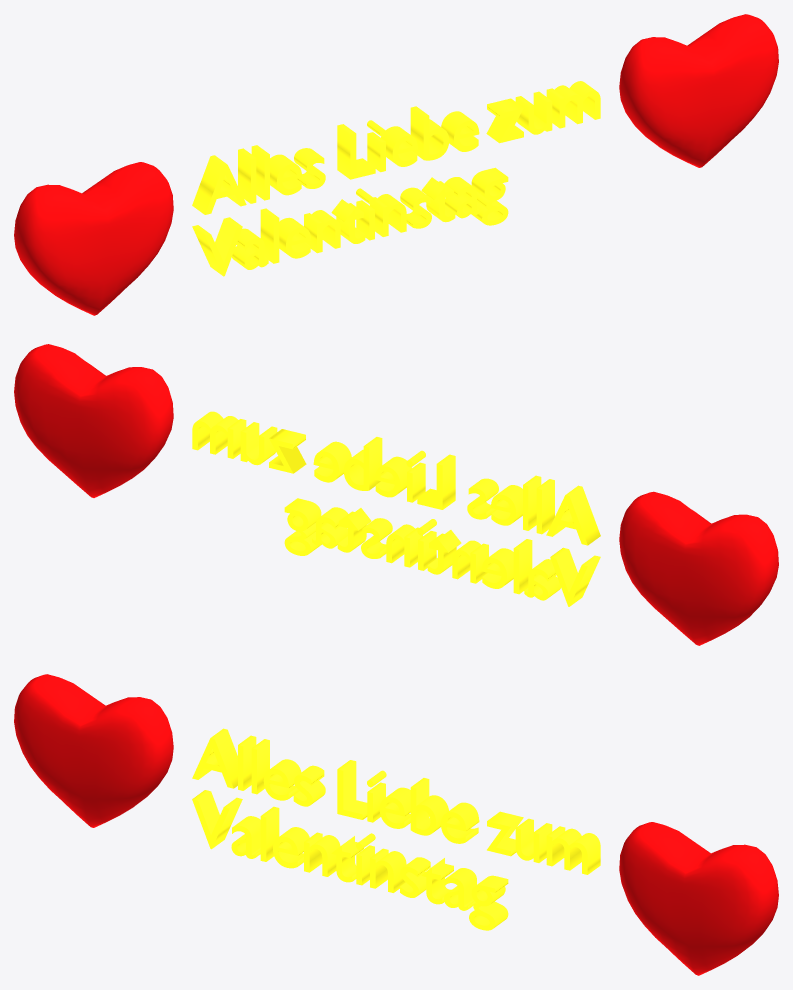
File: asset.gltf
The picture shows the model from 3 angles, top to bottom: view 1: azimuth 30°, elevation 25°; view 2: azimuth 150°, elevation 25°; view 3: azimuth 330°, elevation 25°; orthographic projection.
Visible parts, largest first — view 1: Text, Cube.001, Cube; view 2: Text, Cube, Cube.001; view 3: Text, Cube, Cube.001.
Part boxes in pixels (bbox=[...]): Text: bbox=[192, 81, 600, 276]; Cube.001: bbox=[619, 14, 778, 167]; Cube: bbox=[14, 162, 173, 315]; Text: bbox=[192, 411, 600, 606]; Cube: bbox=[619, 491, 778, 645]; Cube.001: bbox=[14, 344, 173, 497]; Text: bbox=[192, 728, 600, 930]; Cube: bbox=[14, 674, 173, 827]; Cube.001: bbox=[619, 822, 778, 975].
Size of the model in its own units: 12.06 by 2.13 by 0.813.
